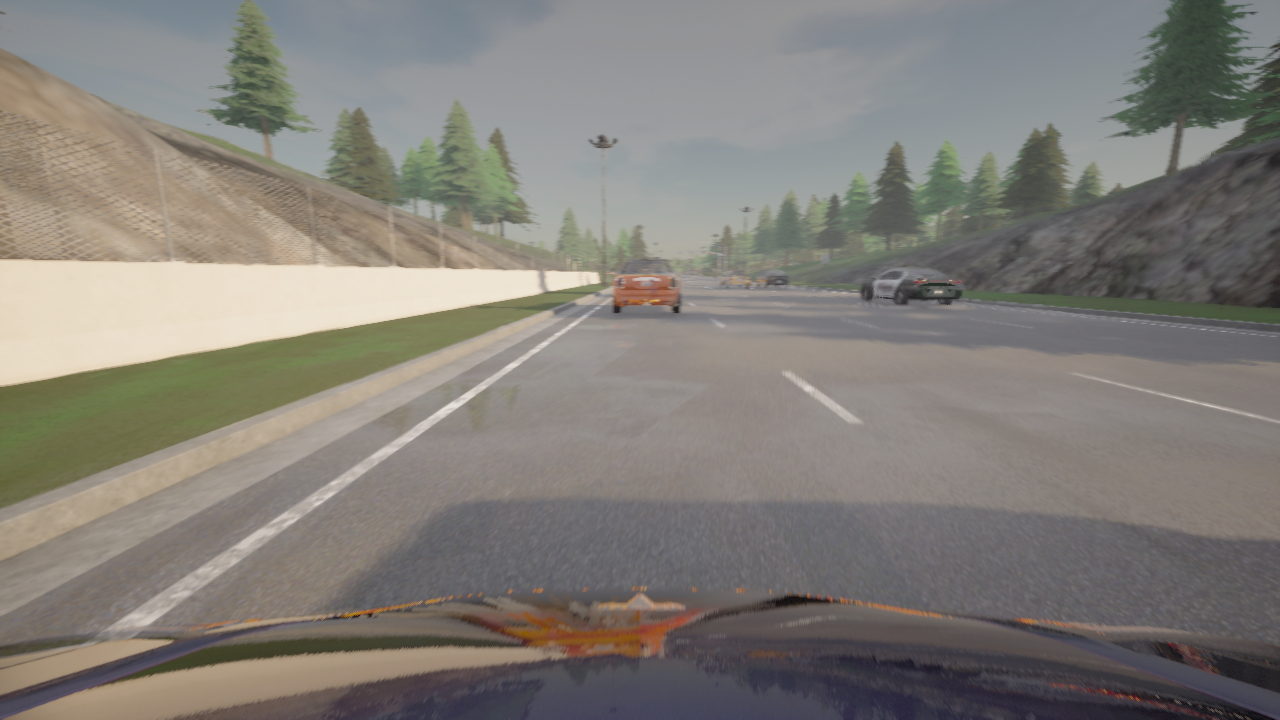cyclist: (0, 588, 1279, 719), (861, 265, 963, 305), (612, 257, 681, 313), (756, 268, 789, 288), (720, 269, 750, 288)
